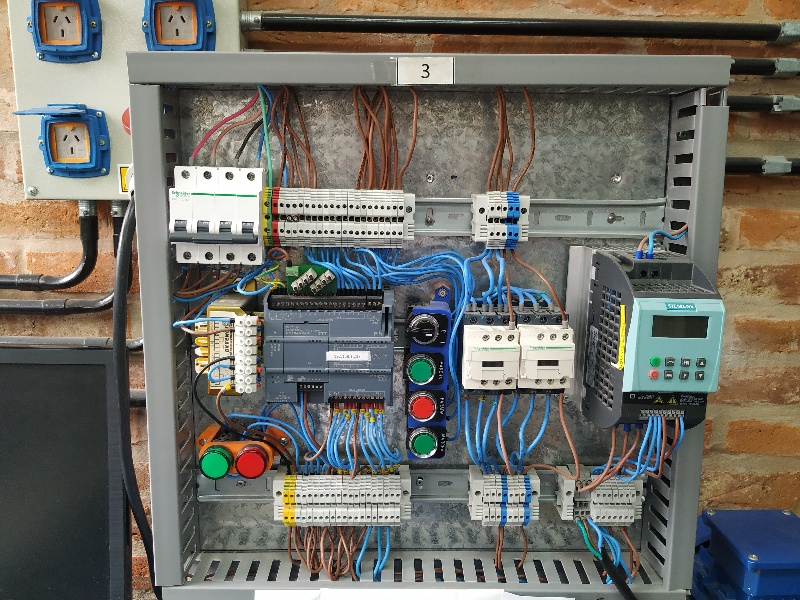Tablero 3: (151, 77, 722, 571)
